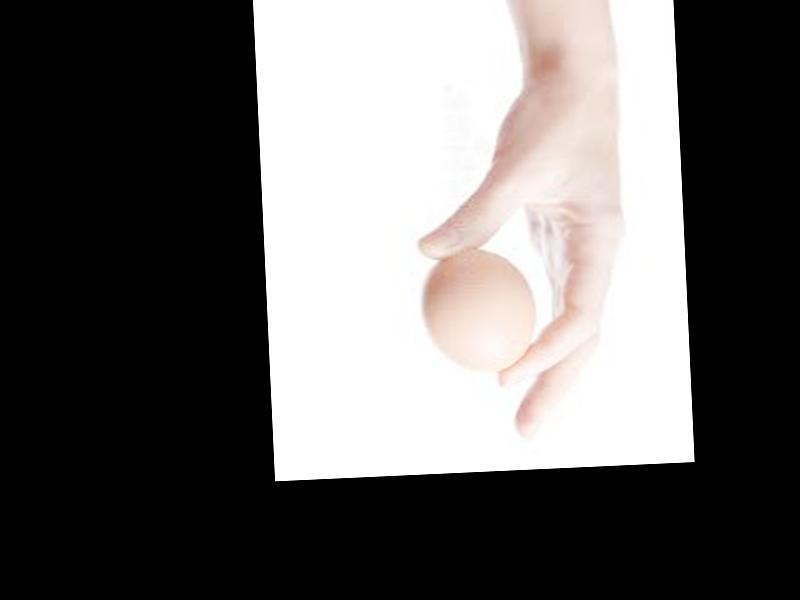Eggs: (420, 245, 536, 374)
